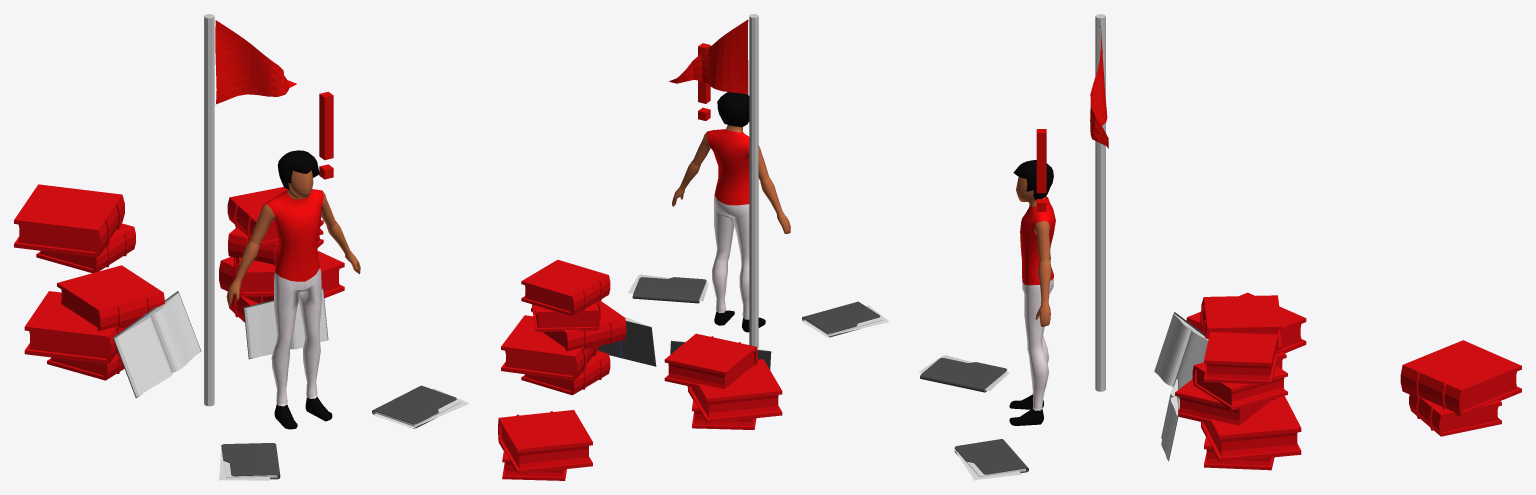
3 views of the same model, side by side, from view 1: azimuth 30°, elevation 25°; view 2: azimuth 150°, elevation 25°; view 3: azimuth 270°, elevation 25° (orthographic). The views are drawn at different scales.
Visible parts, largest first — view 1: corpo.001, Cylinder.001_Hig_0.013, pagine2-material, Cylinder.001_Hig_0.002, Cylinder_001_6_0, Cylinder.001_Hig_0.001, Plane, pagine2-material.001, Folder_1Shape.001, Folder_1Shape, Cylinder.001_Hig_0.012, Cylinder.001_Hig_0.008 (+6 smaller); view 2: corpo.001, Cylinder.001_Hig_0.013, Cylinder.001_Hig_0.002, Cylinder.001_Hig_0.001, Cylinder.001_Hig_0.005, Cylinder.001_Hig_0.008, Cylinder_001_6_0, Plane, Cylinder.001_Hig_0.006, Folder_1Shape.001, Cylinder.001_Hig_0.007, cover_1-material.001 (+6 smaller); view 3: Cylinder.001_Hig_0.013, corpo.001, Cylinder.001_Hig_0.005, Cylinder.001_Hig_0.008, Cylinder_001_6_0, Cylinder.001_Hig_0.002, pagine2-material, Cylinder.001_Hig_0.007, Cylinder.001_Hig_0.012, Cylinder.001_Hig_0.006, Folder_1Shape, Folder_1Shape.001 (+5 smaller).
Part boxes in pixels (left/top/right/bottom): corpo.001: left=226, top=170, right=360, bottom=429; Cylinder.001_Hig_0.013: left=14, top=184, right=124, bottom=257; pagine2-material: left=117, top=293, right=200, bottom=395; Cylinder.001_Hig_0.002: left=57, top=265, right=164, bottom=330; Cylinder_001_6_0: left=204, top=14, right=214, bottom=406; Cylinder.001_Hig_0.001: left=24, top=291, right=127, bottom=364; Plane: left=215, top=20, right=296, bottom=104; pagine2-material.001: left=246, top=290, right=327, bottom=358; Folder_1Shape.001: left=372, top=385, right=456, bottom=428; Folder_1Shape: left=221, top=443, right=280, bottom=479; Cylinder.001_Hig_0.012: left=36, top=223, right=135, bottom=273; Cylinder.001_Hig_0.008: left=227, top=187, right=323, bottom=246; corpo.001: left=672, top=125, right=790, bottom=332; Cylinder.001_Hig_0.013: left=498, top=410, right=592, bottom=474; Cylinder.001_Hig_0.002: left=664, top=333, right=757, bottom=389; Cylinder.001_Hig_0.001: left=687, top=359, right=782, bottom=423; Cylinder.001_Hig_0.005: left=501, top=315, right=599, bottom=380; Cylinder.001_Hig_0.008: left=521, top=259, right=610, bottom=316; Cylinder_001_6_0: left=749, top=14, right=758, bottom=348; Plane: left=669, top=19, right=748, bottom=94; Cylinder.001_Hig_0.006: left=531, top=301, right=626, bottom=351; Folder_1Shape.001: left=632, top=277, right=706, bottom=303; Cylinder.001_Hig_0.007: left=532, top=301, right=600, bottom=331; cover_1-material.001: left=598, top=321, right=656, bottom=366; Cylinder.001_Hig_0.013: left=1400, top=340, right=1521, bottom=416; corpo.001: left=1009, top=177, right=1055, bottom=425; Cylinder.001_Hig_0.005: left=1200, top=396, right=1301, bottom=462; Cylinder.001_Hig_0.008: left=1204, top=331, right=1278, bottom=384; Cylinder_001_6_0: left=1095, top=14, right=1105, bottom=391; Cylinder.001_Hig_0.002: left=1200, top=295, right=1281, bottom=350; pagine2-material: left=1154, top=314, right=1207, bottom=389; Cylinder.001_Hig_0.007: left=1192, top=362, right=1287, bottom=410; Cylinder.001_Hig_0.012: left=1409, top=395, right=1501, bottom=436; Cylinder.001_Hig_0.006: left=1175, top=379, right=1276, bottom=425; Folder_1Shape: left=920, top=358, right=1006, bottom=392; Folder_1Shape.001: left=954, top=439, right=1028, bottom=474.
Size of the model in its own units: 3.08 by 3.79 by 5.49.
20 materials, 2 textured.
